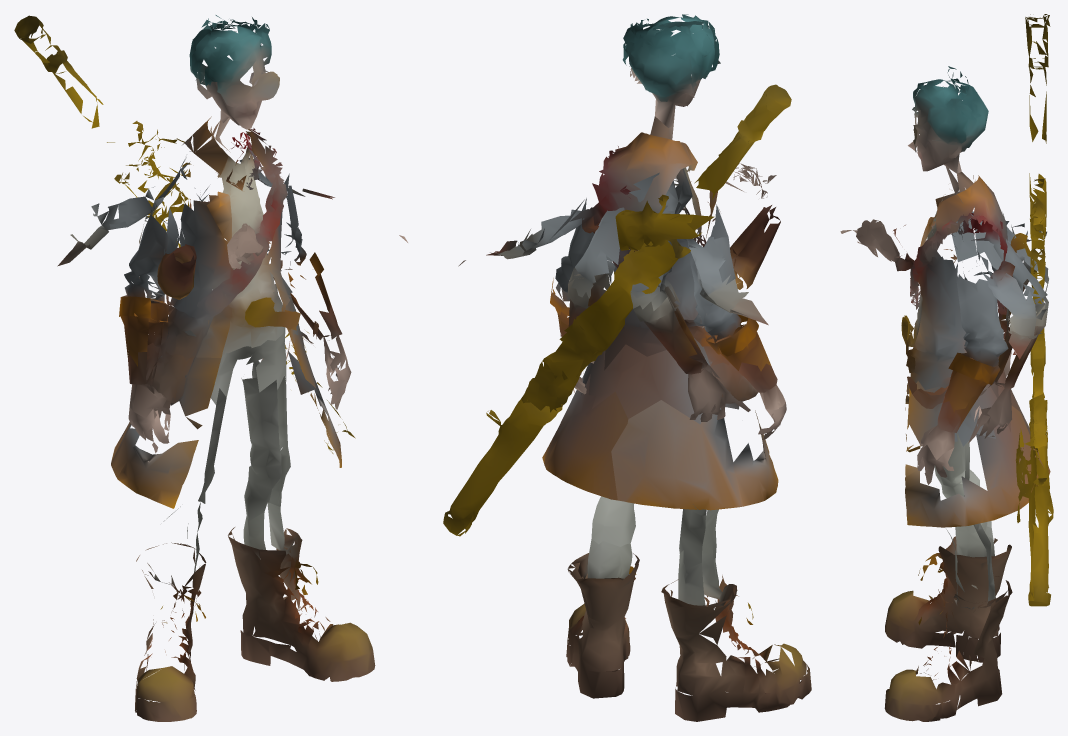
File: nell.glb
The picture shows the model from 3 angles, left to right: view 1: azimuth 30°, elevation 25°; view 2: azimuth 150°, elevation 25°; view 3: azimuth 270°, elevation 25°; orthographic projection. The views are drawn at different scales.
Parts seen in each view (by area): view 1: torso, shinR, hips, thighR, head, thighL, shinL, armL; view 2: torso, thighL, shinL, thighR, hips, shinR, head, armL, foreL, armR, foreR; view 3: torso, thighR, shinL, shinR, head, hips, armL, foreR, armR, thighL.
Part boxes in pixels (bbox=[...]): torso: bbox=[14, 15, 407, 366]; shinR: bbox=[228, 502, 375, 681]; hips: bbox=[128, 300, 348, 418]; thighR: bbox=[241, 331, 355, 520]; head: bbox=[189, 15, 279, 129]; thighL: bbox=[111, 388, 226, 535]; shinL: bbox=[135, 523, 206, 721]; armL: bbox=[107, 121, 263, 268]; torso: bbox=[458, 84, 791, 371]; thighL: bbox=[611, 400, 786, 569]; shinL: bbox=[661, 550, 811, 721]; thighR: bbox=[443, 373, 635, 546]; hips: bbox=[521, 316, 785, 424]; shinR: bbox=[566, 539, 639, 698]; head: bbox=[622, 14, 720, 127]; armL: bbox=[615, 163, 776, 310]; foreL: bbox=[633, 286, 750, 421]; armR: bbox=[569, 177, 676, 298]; foreR: bbox=[567, 271, 609, 394]; torso: bbox=[893, 14, 1050, 421]; thighR: bbox=[905, 405, 1053, 606]; shinL: bbox=[885, 522, 1011, 662]; shinR: bbox=[884, 550, 1012, 721]; head: bbox=[908, 66, 988, 173]; hips: bbox=[907, 370, 1047, 459]; armL: bbox=[840, 173, 1048, 291]; foreR: bbox=[968, 304, 1046, 443]; armR: bbox=[931, 213, 1048, 314]; thighL: bbox=[905, 383, 1048, 533].
Bounding box in the file's own units: 0.5711 × 1 × 0.3243.
